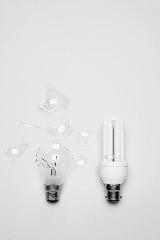lightbulb: (99, 116, 128, 202), (35, 139, 73, 201), (34, 82, 70, 112), (46, 116, 74, 138), (4, 140, 28, 162), (75, 126, 88, 144), (74, 154, 88, 168)
